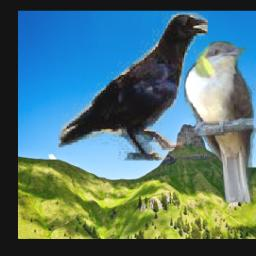Crow: (59, 12, 208, 161)
Cuckoo: (185, 42, 256, 203)
